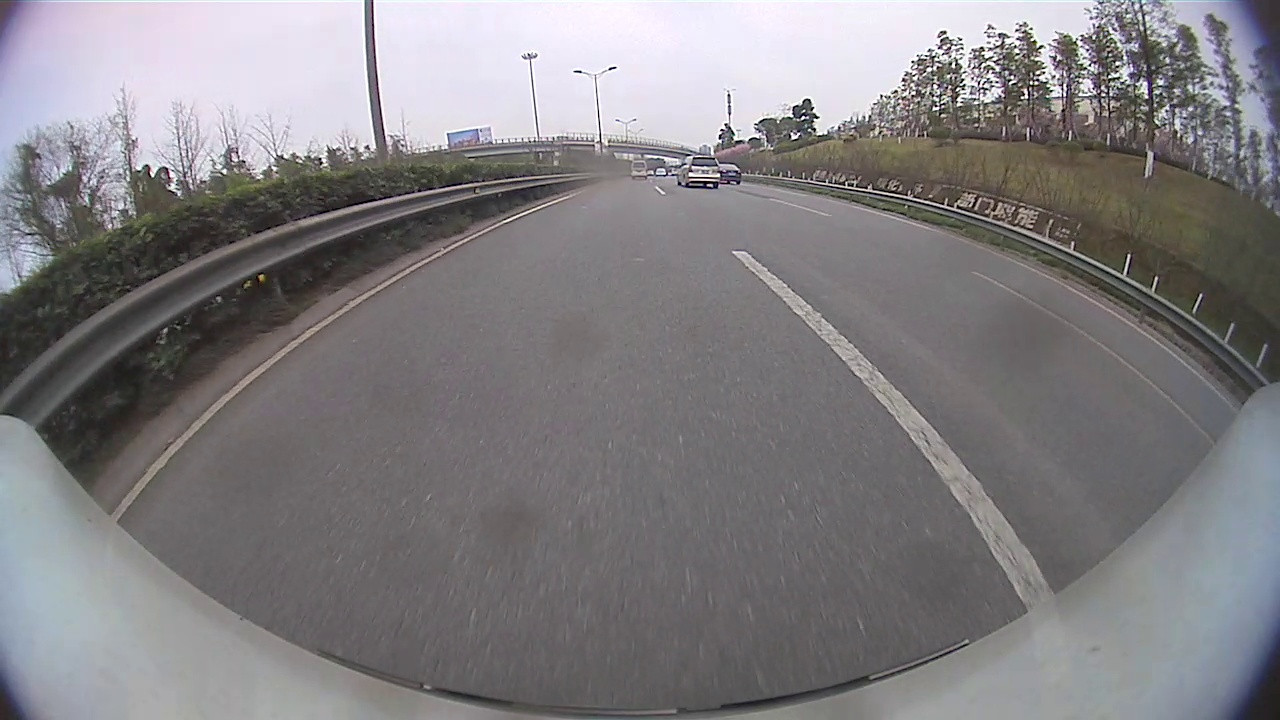car: (674, 153, 721, 189), (719, 163, 742, 185), (629, 159, 649, 179)
